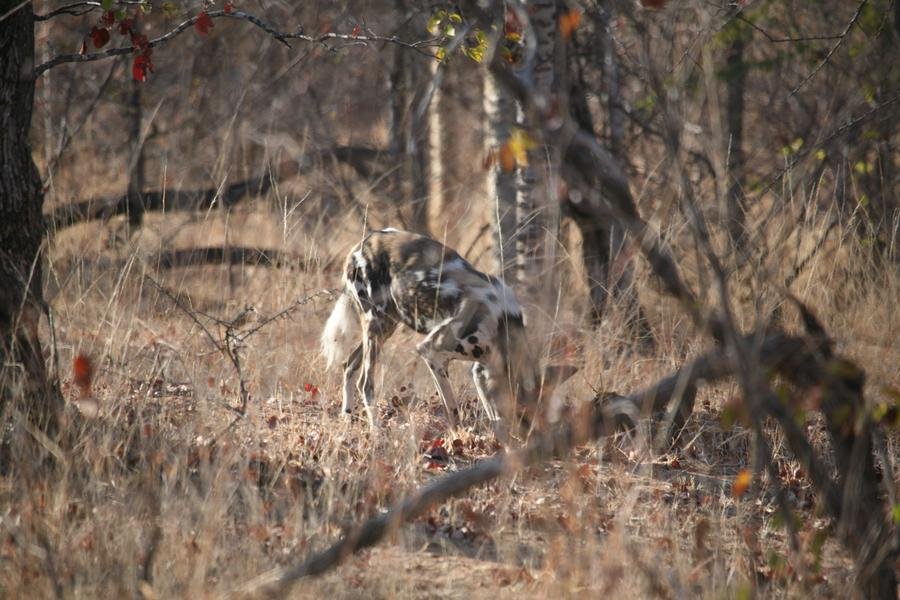wilddog: (344, 232, 546, 421)
